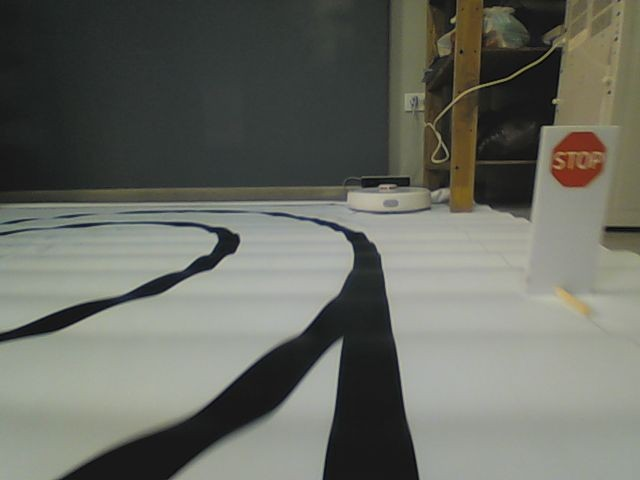Stop: (548, 131, 607, 189)
